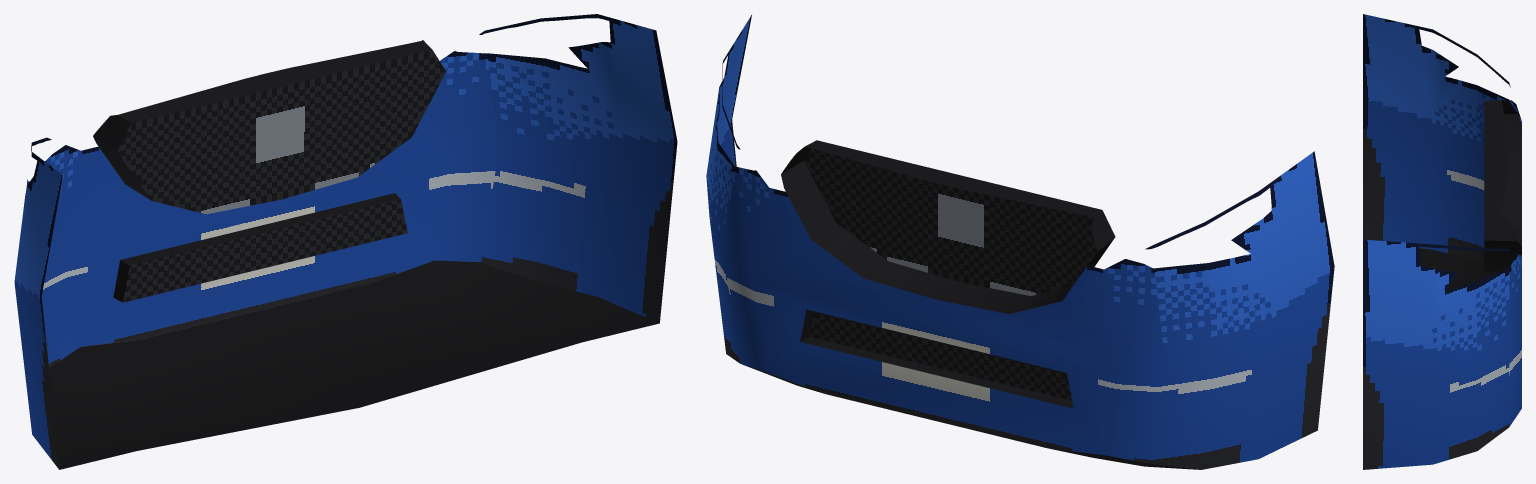
Rendered from bumper_F_lip.glb.
The picture shows the model from 3 angles, left to right: view 1: azimuth 30°, elevation 25°; view 2: azimuth 150°, elevation 25°; view 3: azimuth 270°, elevation 25°; orthographic projection. The views are drawn at different scales.
Visible parts, largest first — view 1: bumper_F_lip; view 2: bumper_F_lip; view 3: bumper_F_lip.
Part boxes in pixels (x1,y1,x2,y2): bumper_F_lip: (14, 14, 677, 469); bumper_F_lip: (706, 15, 1334, 469); bumper_F_lip: (1363, 14, 1521, 469).
Bounding box in the file's own units: 1.8 × 0.8298 × 0.5.
Materials: 1 (1 with a texture image).
